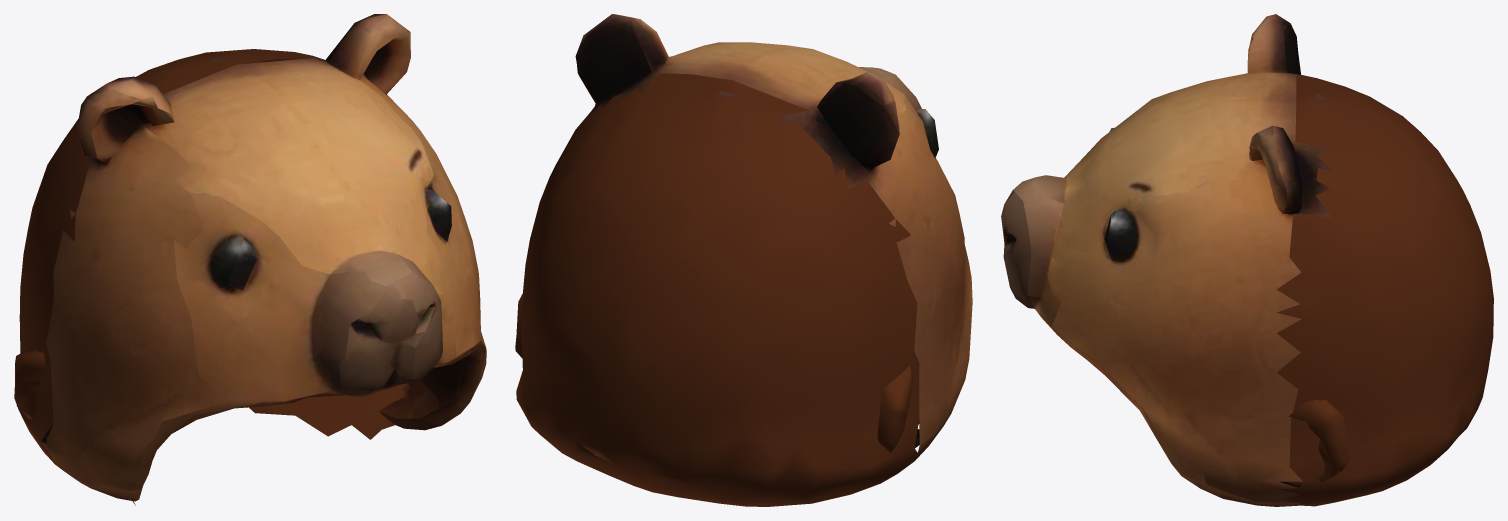
File: capybara.glb
3 views of the same model, side by side, from view 1: azimuth 30°, elevation 25°; view 2: azimuth 150°, elevation 25°; view 3: azimuth 270°, elevation 25° (orthographic). The views are drawn at different scales.
Parts seen in each view (by area): view 1: geometry_0, HoodAnatomicalLining; view 2: geometry_0, HoodAnatomicalLining; view 3: geometry_0, HoodAnatomicalLining.
Part boxes in pixels (left/top/right/bottom): geometry_0: left=14, top=14, right=486, bottom=501; HoodAnatomicalLining: left=15, top=61, right=414, bottom=505; geometry_0: left=516, top=14, right=972, bottom=506; HoodAnatomicalLining: left=515, top=294, right=912, bottom=452; geometry_0: left=1001, top=14, right=1493, bottom=506; HoodAnatomicalLining: left=1287, top=213, right=1349, bottom=487.
Bounding box in the file's own units: 0.4707 × 0.4643 × 0.5474.
2 materials, 1 textured.
